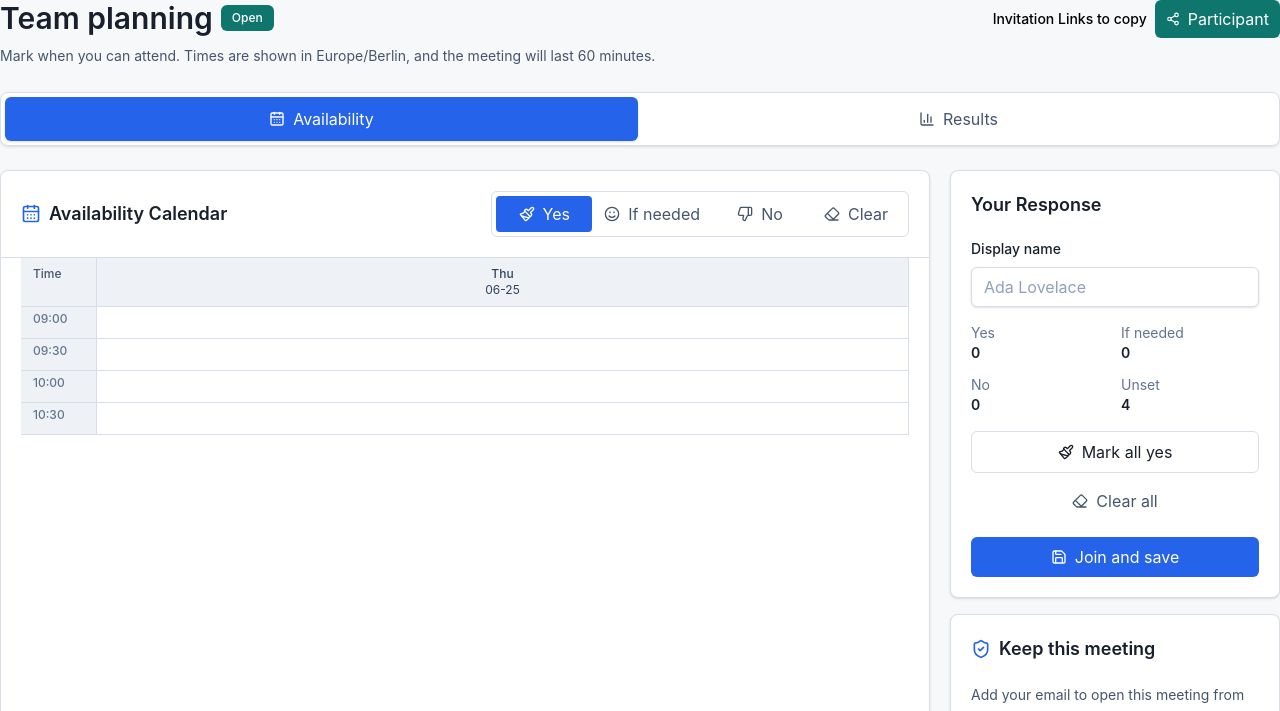
Test case: ParticipantAvailabilityPainter › defaults to availability before the viewer has voted and allows switching views
The width and height of the screenshot is (1280, 711).
Expected: the heading "Availability Calendar" is shown, [21,200,227,228]
Expected: the heading "best times" is not shown
Click the tab "Results" at x=958, y=119, box [642,97,1275,141]
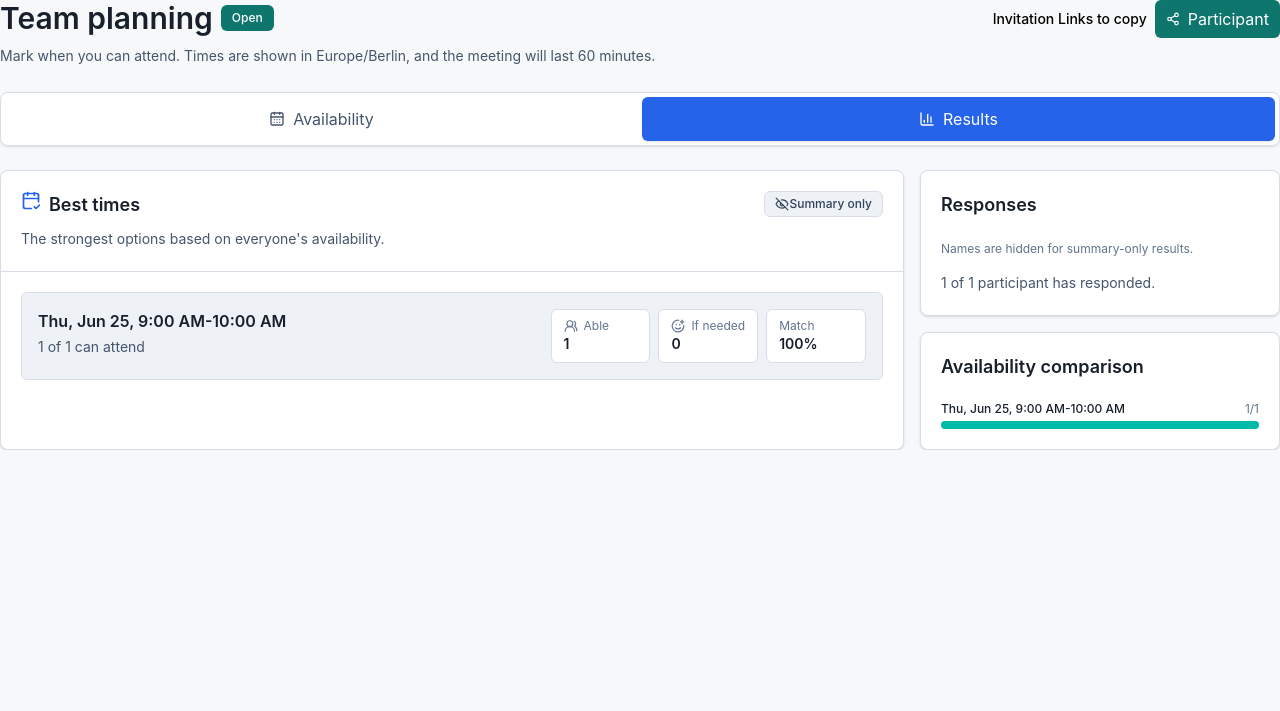
Expected: the button with aria-label "copy participant invite" is shown, [1155,0,1279,38]
Now the heading "Best times" is shown, box [21,191,140,215]
Now the heading "Availability Calendar" is gone
